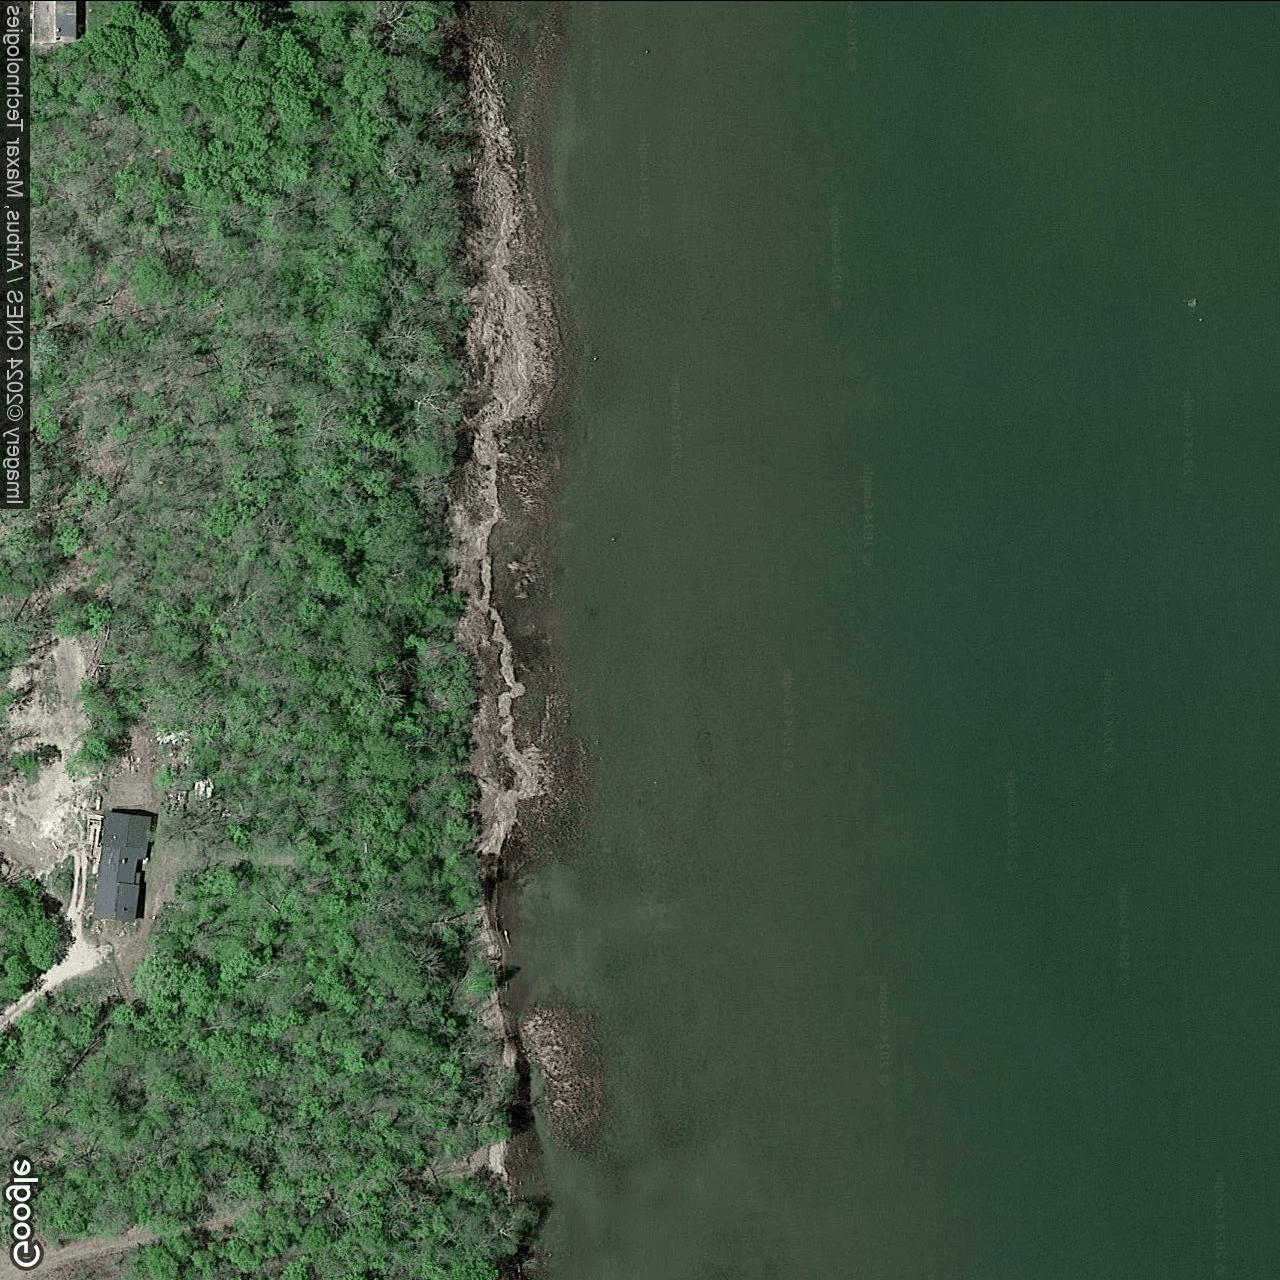House: (93, 811, 152, 921), (32, 0, 77, 43)
